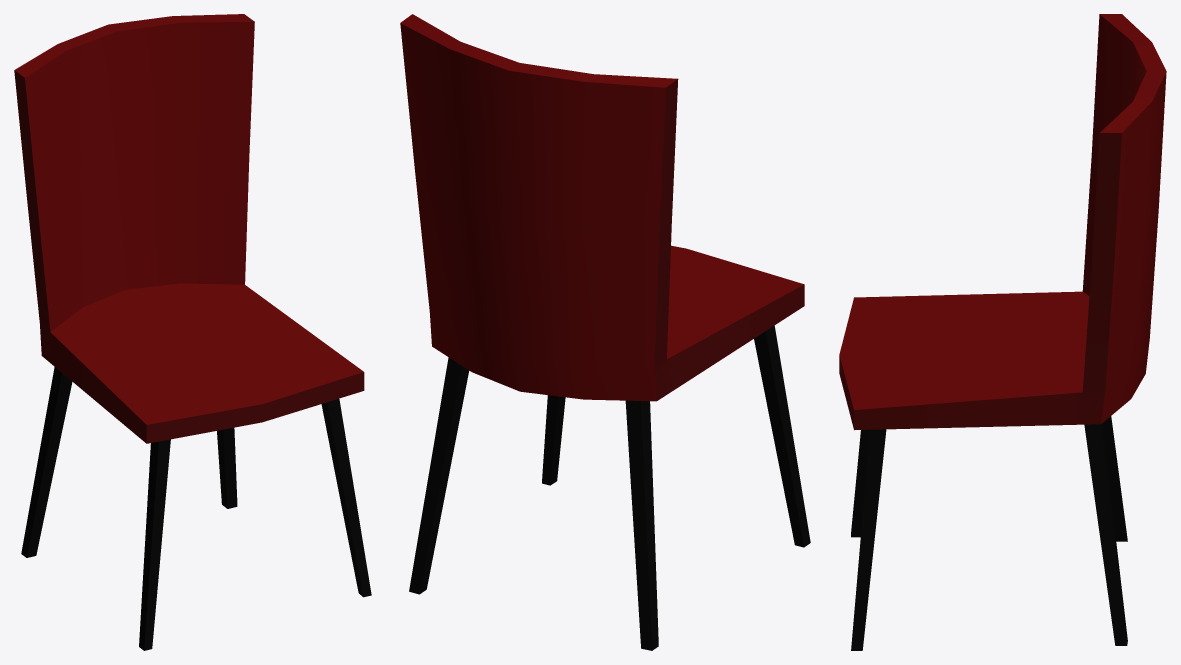
Rendered from ModernCafeChair.glb.
3 views of the same model, side by side, from view 1: azimuth 30°, elevation 25°; view 2: azimuth 150°, elevation 25°; view 3: azimuth 270°, elevation 25° (orthographic). The views are drawn at different scales.
Parts seen in each view (by area): view 1: ModernCafeChair; view 2: ModernCafeChair; view 3: ModernCafeChair.
Part boxes in pixels (x1,y1,x2,y2): ModernCafeChair: (14,14,371,650); ModernCafeChair: (400,14,810,650); ModernCafeChair: (839,14,1166,650).
Bounding box in the file's own units: 3.03 × 6.17 × 3.52.
